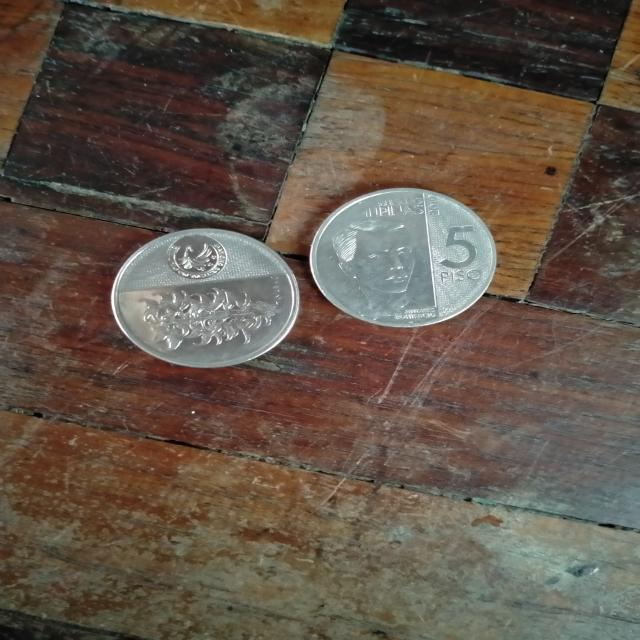5_New_Back: (134, 282, 280, 358)
5_New_Front: (422, 222, 498, 287)
